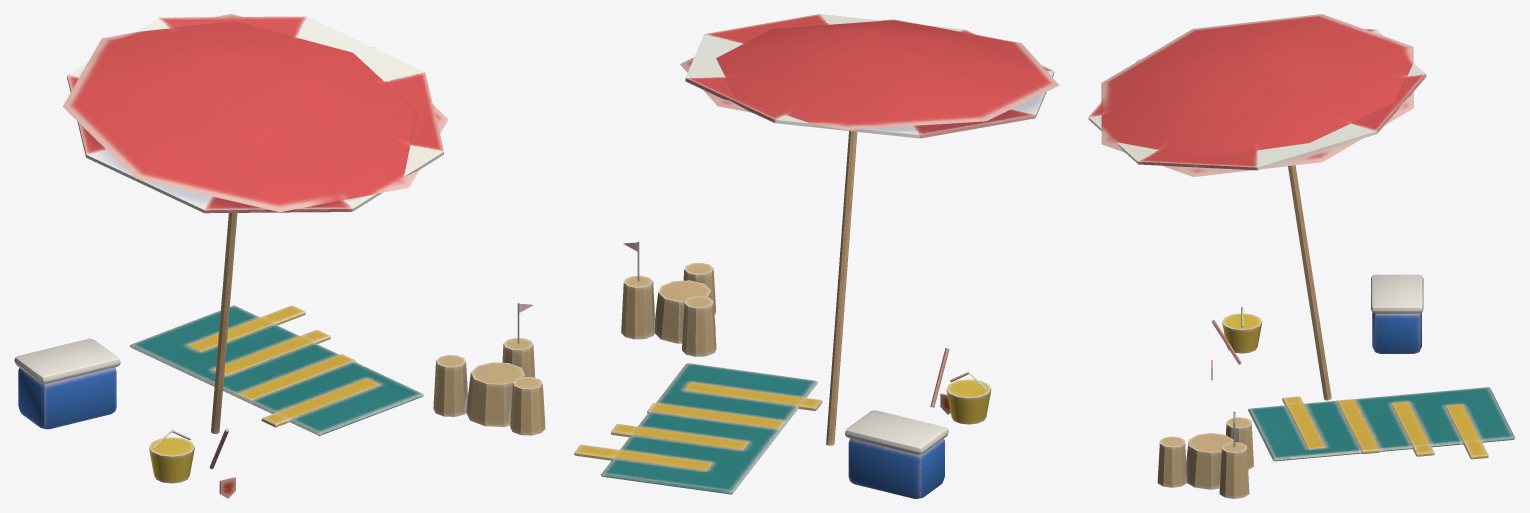
The model's file is dress_beach_camp.glb.
3 renders of one model, left to right at view 1: azimuth 30°, elevation 25°; view 2: azimuth 150°, elevation 25°; view 3: azimuth 270°, elevation 25°, orthographic. The views are drawn at different scales.
Parts seen in each view (by area): view 1: SM_DressBeachCamp; view 2: SM_DressBeachCamp; view 3: SM_DressBeachCamp.
Part boxes in pixels (x1,y1,x2,y2): SM_DressBeachCamp: (14,14,545,498); SM_DressBeachCamp: (574,14,1059,498); SM_DressBeachCamp: (1088,14,1515,498).
Size of what is drawn, in the model's own units: 2.82 by 2.44 by 2.76.
1 material, 1 textured.
